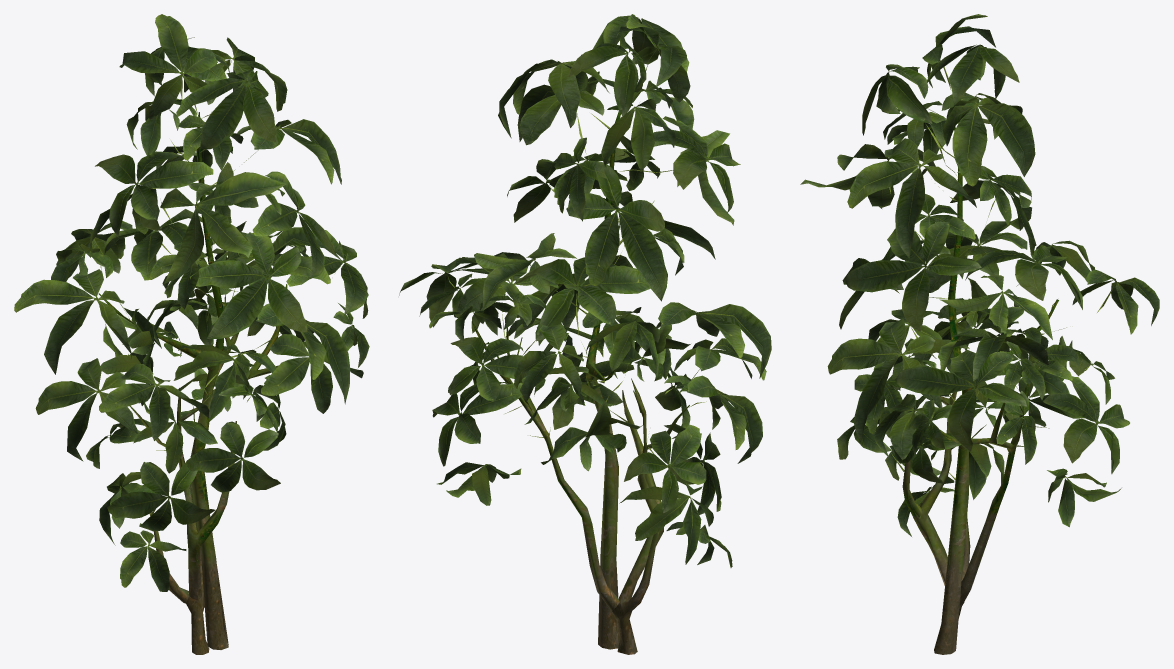
The model's file is pachira_aquatica_01.gltf.
3 renders of one model, left to right at view 1: azimuth 30°, elevation 25°; view 2: azimuth 150°, elevation 25°; view 3: azimuth 270°, elevation 25°, orthographic. The views are drawn at different scales.
Visible parts, largest first — view 1: pachira_aquatica_01_leaves_d, pachira_aquatica_01_bark_d; view 2: pachira_aquatica_01_leaves_d, pachira_aquatica_01_bark_d; view 3: pachira_aquatica_01_leaves_d, pachira_aquatica_01_bark_d.
Boxes of the visible parts, x1,y1,x2,y2 form: pachira_aquatica_01_leaves_d: (14, 14, 369, 591); pachira_aquatica_01_bark_d: (99, 112, 309, 654); pachira_aquatica_01_leaves_d: (399, 14, 771, 567); pachira_aquatica_01_bark_d: (472, 110, 689, 654); pachira_aquatica_01_leaves_d: (800, 14, 1159, 536); pachira_aquatica_01_bark_d: (902, 127, 1058, 654).
Size of the model in its own units: 1.05 by 1.9 by 0.9971.
2 materials, 2 textured.
